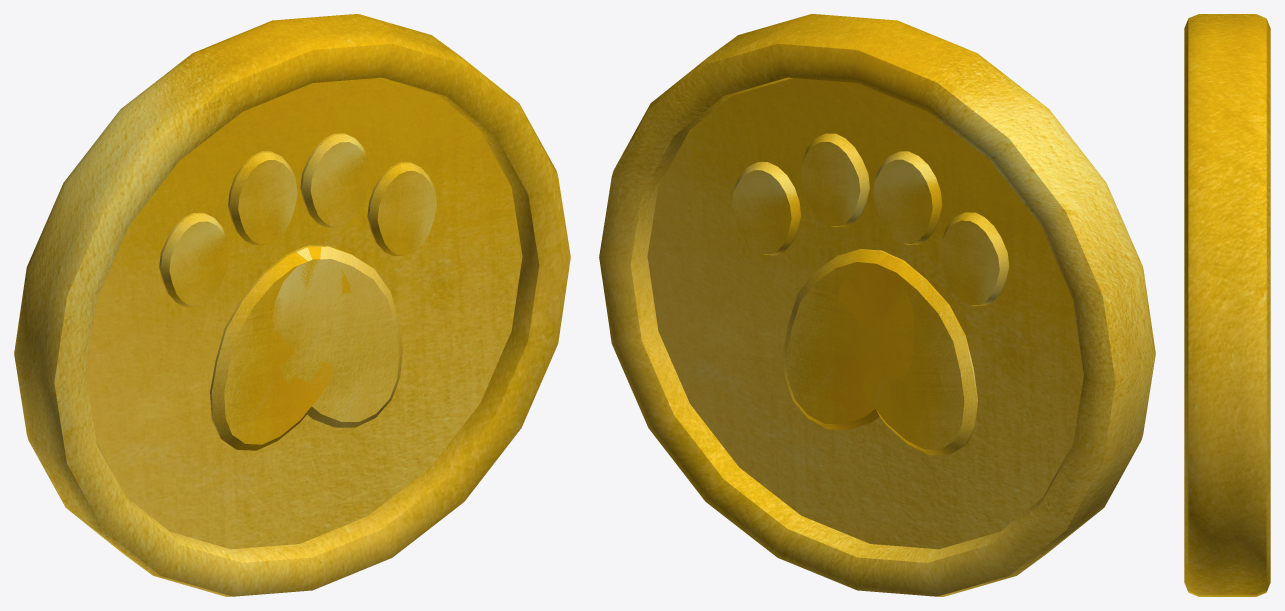
File: Coin.fbx
3 views of the same model, side by side, from view 1: azimuth 30°, elevation 25°; view 2: azimuth 150°, elevation 25°; view 3: azimuth 270°, elevation 25° (orthographic). The views are drawn at different scales.
Parts seen in each view (by area): view 1: coin, almohadilla, almohadilla1, garrita1, garrita3, garrita, garrita2; view 2: coin, almohadilla, almohadilla1, garrita, garrita2, garrita1, garrita3; view 3: coin.
Boxes of the visible parts, <box> form: coin: <box>14,14,570,596</box>; almohadilla: <box>272,245,402,427</box>; almohadilla1: <box>210,245,350,450</box>; garrita1: <box>300,133,370,227</box>; garrita3: <box>159,212,228,306</box>; garrita: <box>367,162,436,255</box>; garrita2: <box>228,151,297,245</box>; coin: <box>599,14,1155,596</box>; almohadilla: <box>837,250,977,455</box>; almohadilla1: <box>783,249,914,429</box>; garrita: <box>940,212,1009,305</box>; garrita2: <box>800,133,869,227</box>; garrita1: <box>873,151,942,244</box>; garrita3: <box>732,162,801,255</box>; coin: <box>1184,14,1270,596</box>.
Bounding box in the file's own units: 2 × 2 × 0.2951.
1 material, 1 textured.
